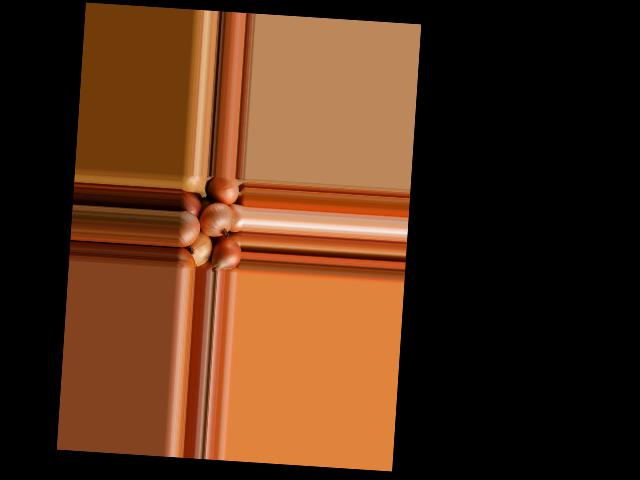onion: (226, 202, 243, 234)
